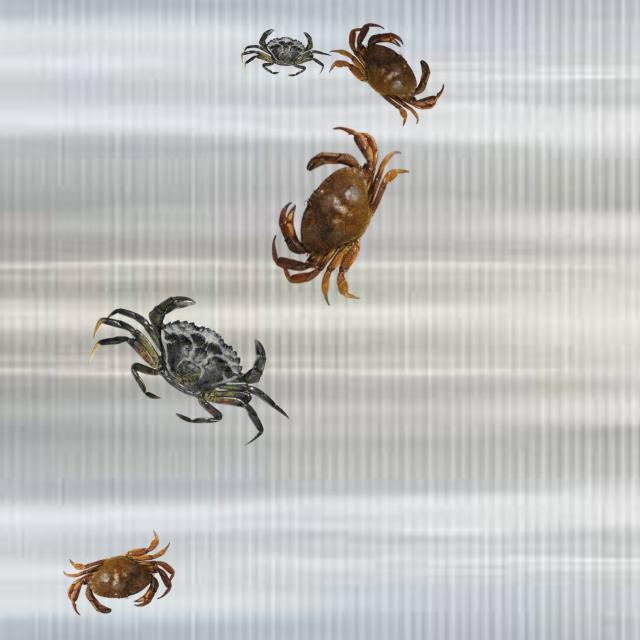European_Green_Crab: (76, 263, 317, 469), (239, 27, 334, 80)
